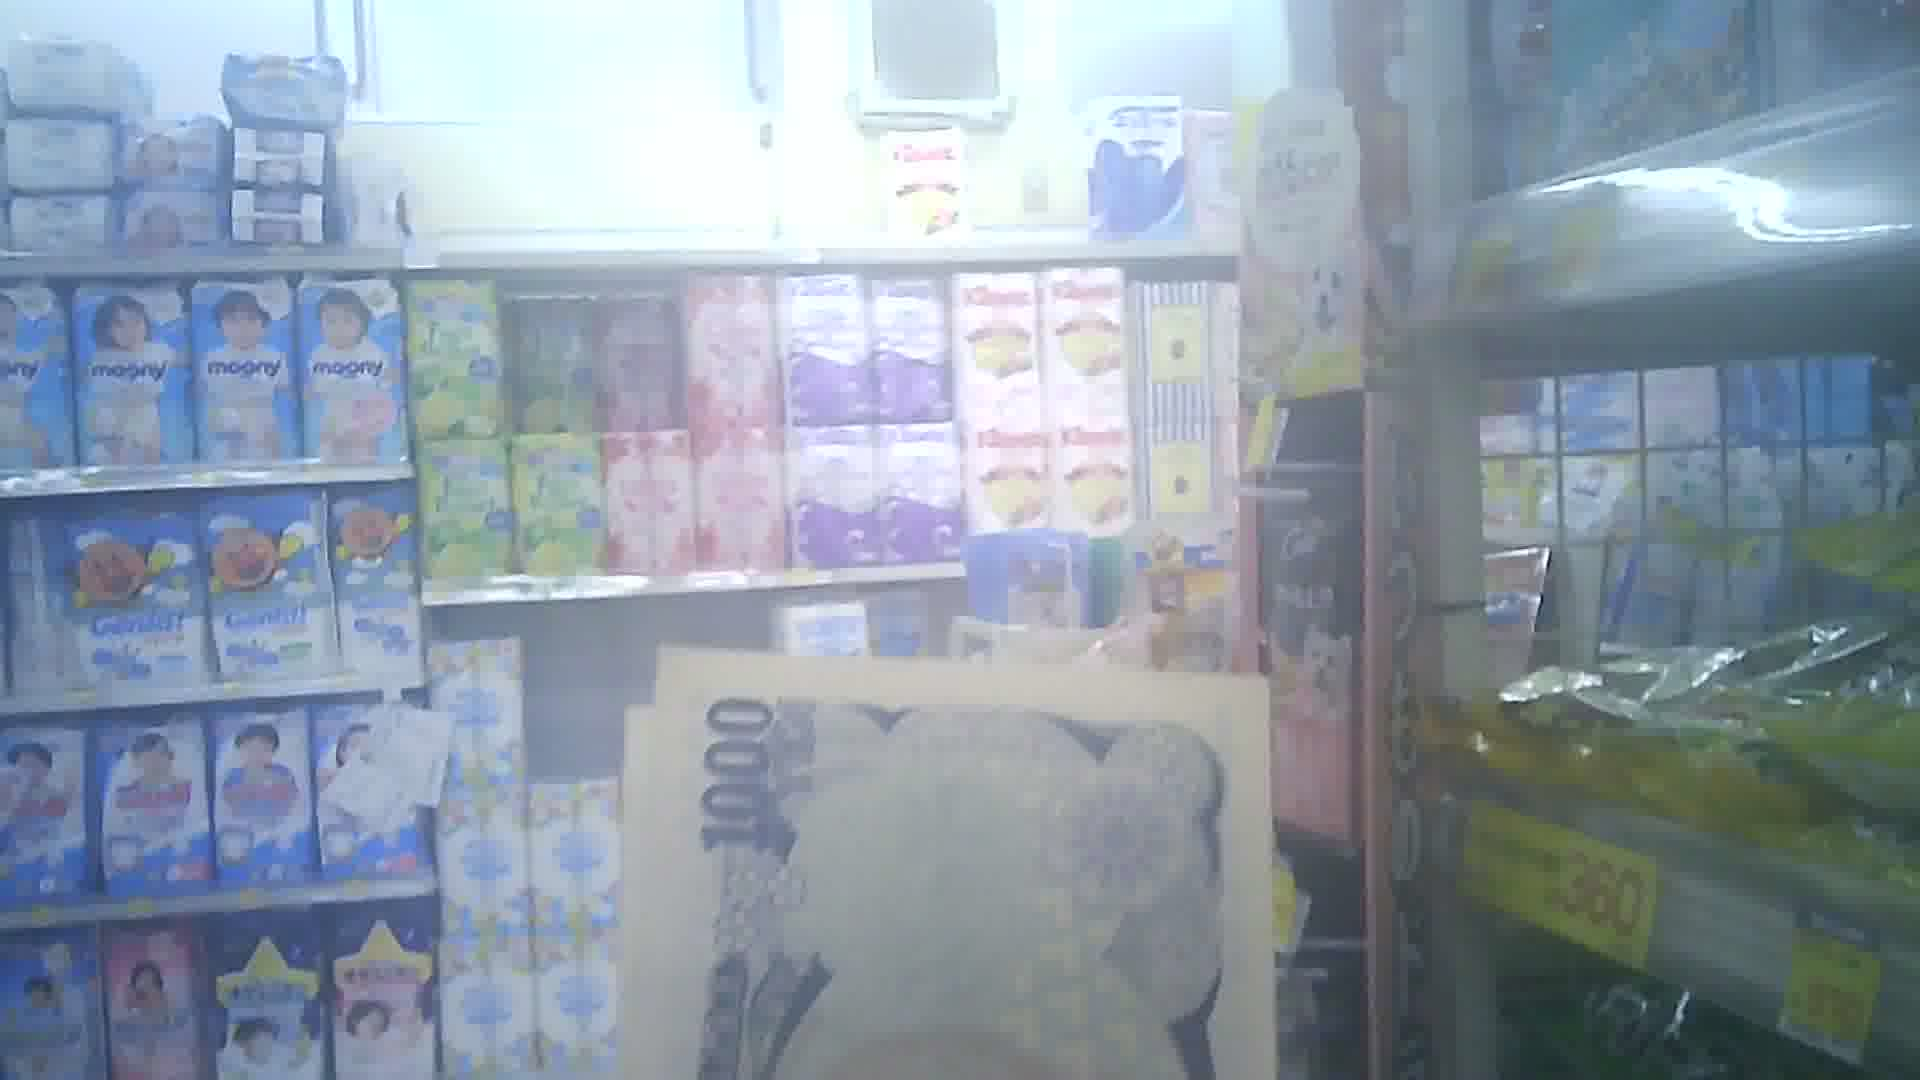1,000 Yen: (617, 624, 1266, 1079)
